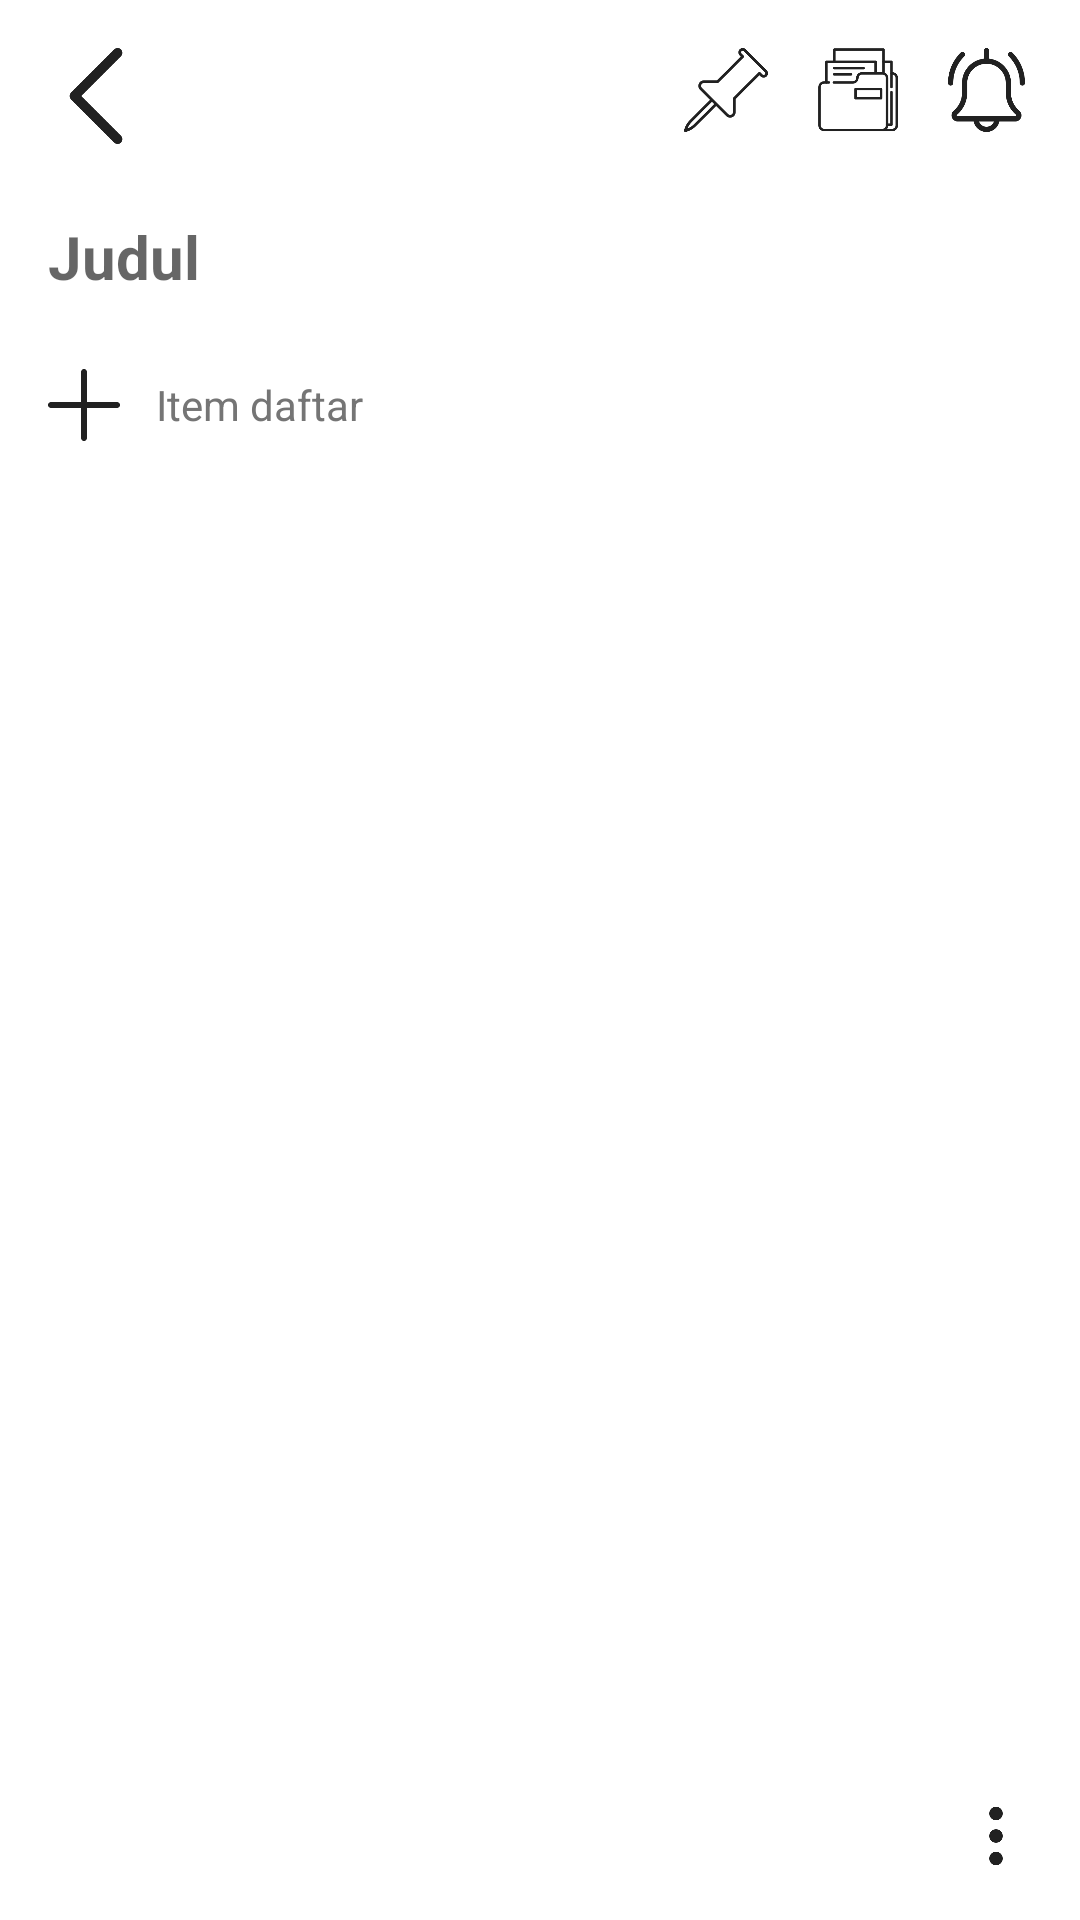

Icon bounding boxes for this 1080×1920 phone screenshot, format (x1, y1, x2, y2):
arsip: (818, 48, 898, 131)
back: (69, 48, 123, 144)
notif: (948, 48, 1025, 132)
pin: (684, 48, 768, 132)
titik: (989, 1807, 1003, 1865)
